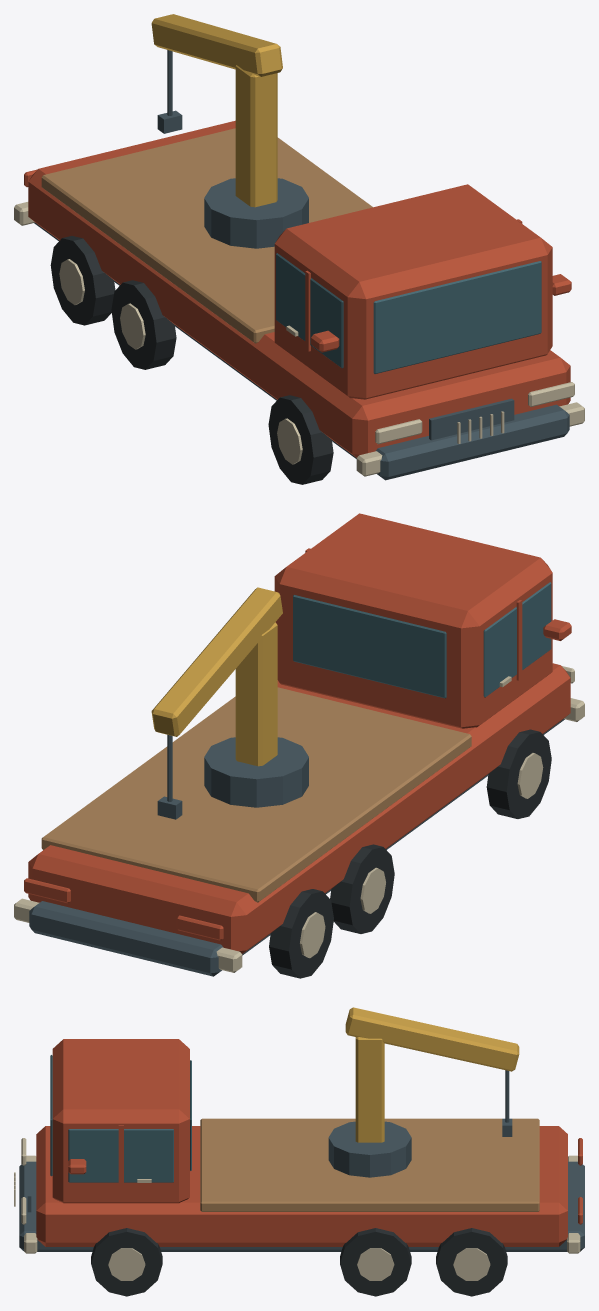
Rendered from vehicle_tow.glb.
3 renders of one model, top to bottom at view 1: azimuth 30°, elevation 25°; view 2: azimuth 150°, elevation 25°; view 3: azimuth 270°, elevation 25°, orthographic. The views are drawn at different scales.
Visible parts, largest first — view 1: vehicle_tow; view 2: vehicle_tow; view 3: vehicle_tow.
Part boxes in pixels (bbox=[...]): vehicle_tow: bbox=[14, 14, 584, 484]; vehicle_tow: bbox=[14, 513, 584, 978]; vehicle_tow: bbox=[14, 1007, 584, 1296].
Bounding box in the file's own units: 2.78 × 3.18 × 6.87.
